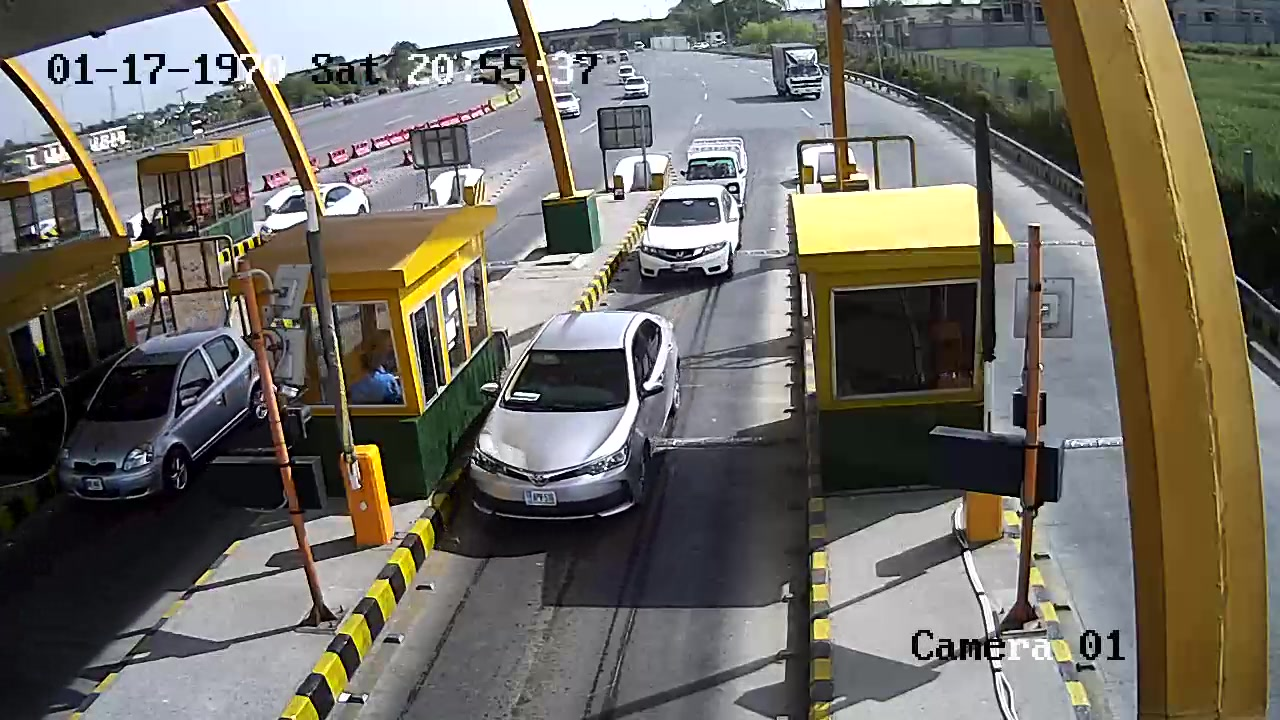F1: (463, 307, 691, 539)
